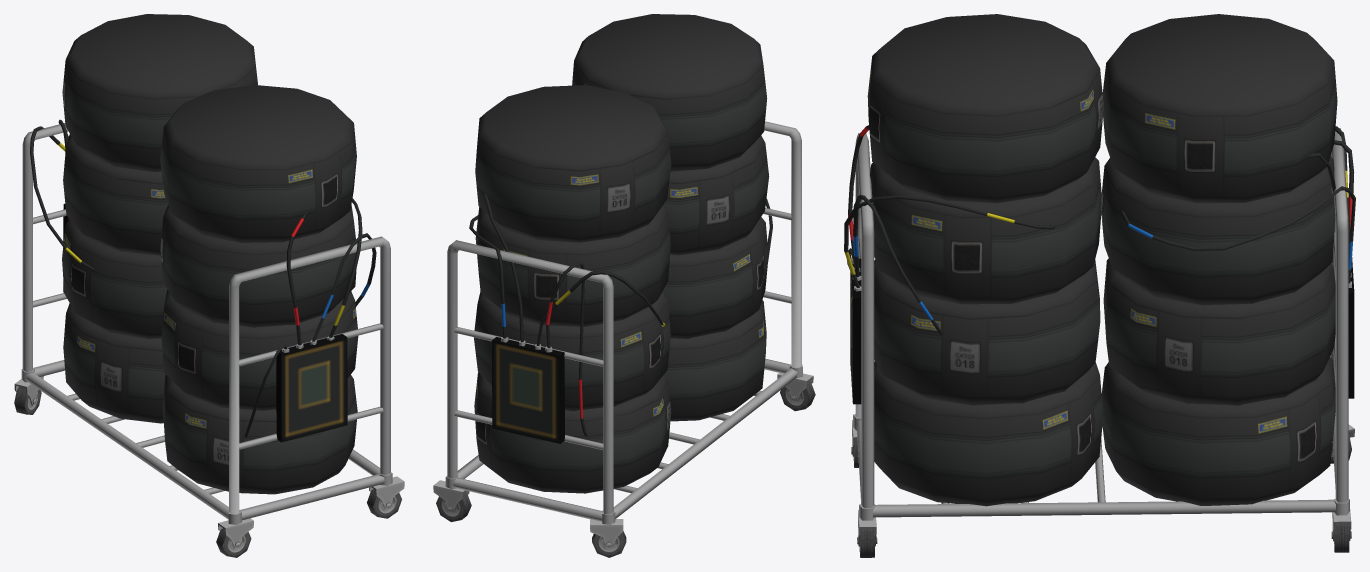
File: Tire_warmers01.fbx
3 renders of one model, left to right at view 1: azimuth 30°, elevation 25°; view 2: azimuth 150°, elevation 25°; view 3: azimuth 270°, elevation 25°, orthographic. The views are drawn at different scales.
Visible parts, largest first — view 1: Tire_warmers01_Tire_4, Tire_warmers01_troll, Tire_warmers01_Tire_8, Tire_warmers01_Tire_3, Tire_warmers01_Tire_1, Tire_warmers01_Tire_2, Tire_warmers01_Tire_6, Tire_warmers01_Tire_5, Tire_warmers01_Tire_7, Tire_warmers01_trollWires, Tire_warmers01_Wheel_2, Tire_warmers01_Wheel_4 (+1 smaller); view 2: Tire_warmers01_Tire_8, Tire_warmers01_troll, Tire_warmers01_Tire_4, Tire_warmers01_Tire_7, Tire_warmers01_Tire_5, Tire_warmers01_Tire_6, Tire_warmers01_Tire_2, Tire_warmers01_Tire_3, Tire_warmers01_Tire_1, Tire_warmers01_trollWires, Tire_warmers01_Wheel_1, Tire_warmers01_Wheel_3 (+1 smaller); view 3: Tire_warmers01_Tire_4, Tire_warmers01_Tire_8, Tire_warmers01_Tire_5, Tire_warmers01_Tire_6, Tire_warmers01_Tire_1, Tire_warmers01_Tire_7, Tire_warmers01_Tire_2, Tire_warmers01_Tire_3, Tire_warmers01_troll, Tire_warmers01_trollWires, Tire_warmers01_Wheel_3, Tire_warmers01_Wheel_4.
Part boxes in pixels (<box>): Tire_warmers01_Tire_4: <box>160,85,356,242</box>; Tire_warmers01_troll: <box>22,123,390,520</box>; Tire_warmers01_Tire_8: <box>62,14,257,171</box>; Tire_warmers01_Tire_3: <box>160,204,356,327</box>; Tire_warmers01_Tire_1: <box>162,374,357,494</box>; Tire_warmers01_Tire_2: <box>161,289,358,410</box>; Tire_warmers01_Tire_6: <box>62,219,167,338</box>; Tire_warmers01_Tire_5: <box>63,303,165,423</box>; Tire_warmers01_Tire_7: <box>63,134,168,255</box>; Tire_warmers01_trollWires: <box>30,119,376,437</box>; Tire_warmers01_Wheel_2: <box>216,511,253,557</box>; Tire_warmers01_Wheel_4: <box>367,471,404,518</box>; Tire_warmers01_Tire_8: <box>475,85,671,242</box>; Tire_warmers01_troll: <box>447,121,801,521</box>; Tire_warmers01_Tire_4: <box>572,14,767,171</box>; Tire_warmers01_Tire_7: <box>475,205,670,326</box>; Tire_warmers01_Tire_5: <box>474,372,671,493</box>; Tire_warmers01_Tire_6: <box>474,289,670,411</box>; Tire_warmers01_Tire_2: <box>664,217,768,338</box>; Tire_warmers01_Tire_3: <box>663,135,769,255</box>; Tire_warmers01_Tire_1: <box>664,300,766,421</box>; Tire_warmers01_trollWires: <box>469,191,772,436</box>; Tire_warmers01_Wheel_1: <box>590,510,626,557</box>; Tire_warmers01_Wheel_3: <box>433,474,471,521</box>; Tire_warmers01_Tire_4: <box>867,14,1103,203</box>; Tire_warmers01_Tire_8: <box>1102,14,1337,202</box>; Tire_warmers01_Tire_5: <box>1101,357,1335,505</box>; Tire_warmers01_Tire_6: <box>1103,258,1335,405</box>; Tire_warmers01_Tire_1: <box>874,361,1103,506</box>; Tire_warmers01_Tire_7: <box>1101,156,1335,305</box>; Tire_warmers01_Tire_2: <box>874,259,1100,405</box>; Tire_warmers01_Tire_3: <box>870,157,1101,304</box>; Tire_warmers01_troll: <box>850,128,1354,517</box>; Tire_warmers01_trollWires: <box>844,125,1355,335</box>; Tire_warmers01_Wheel_3: <box>1331,499,1351,552</box>; Tire_warmers01_Wheel_4: <box>857,504,877,557</box>.
Bounding box in the file's own units: 0.2619 × 0.486 × 0.4967.
